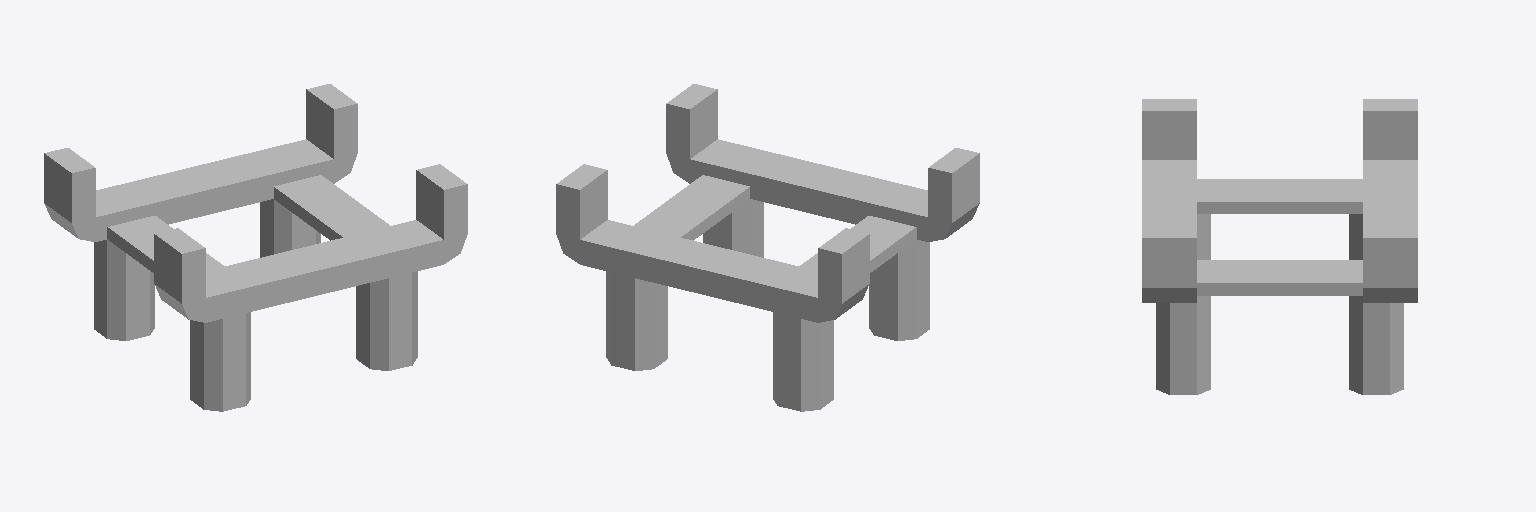
File: support-four-top-double.obj
3 views of the same model, side by side, from view 1: azimuth 30°, elevation 25°; view 2: azimuth 150°, elevation 25°; view 3: azimuth 270°, elevation 25° (orthographic).
Visible parts, largest first — view 1: support-four-top-double; view 2: support-four-top-double; view 3: support-four-top-double.
Boxes of the visible parts, <box> form: support-four-top-double: <box>44,84,467,411</box>; support-four-top-double: <box>556,84,979,411</box>; support-four-top-double: <box>1142,99,1417,394</box>.
Size of the model in its own units: 1.2 by 0.7 by 1.